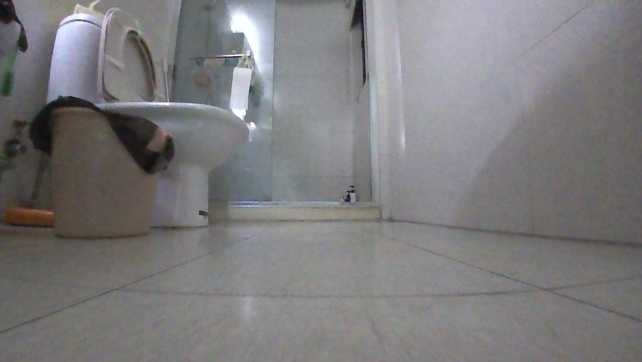toilet: (47, 7, 251, 228)
trash_can: (45, 94, 175, 240)
